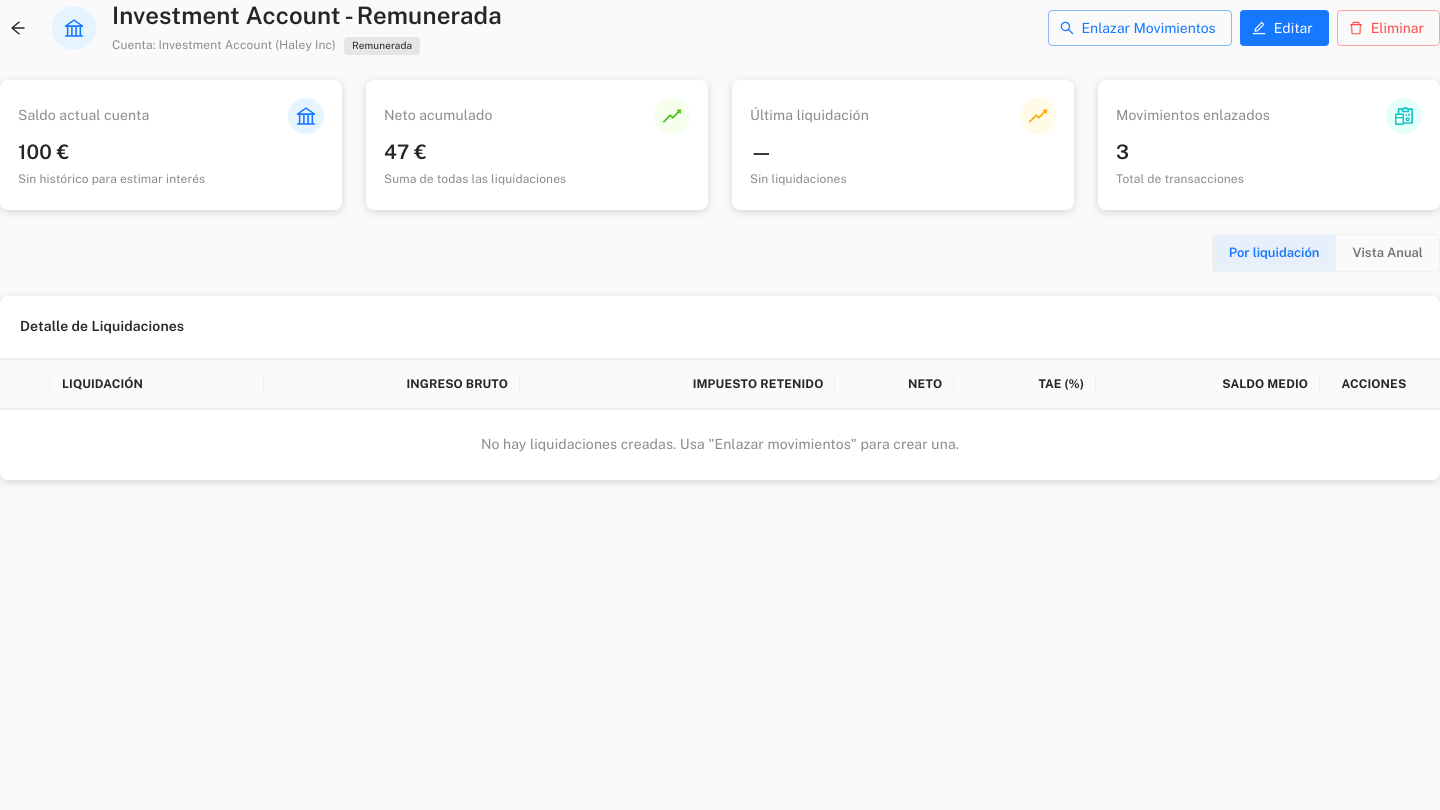
it: YieldDetail › edit yield › keeps the form open and shows the error on failure
This screenshot has width=1440, height=810.
Click the button "Editar" at {"x": 1284, "y": 28}, box [1240,10,1329,46]
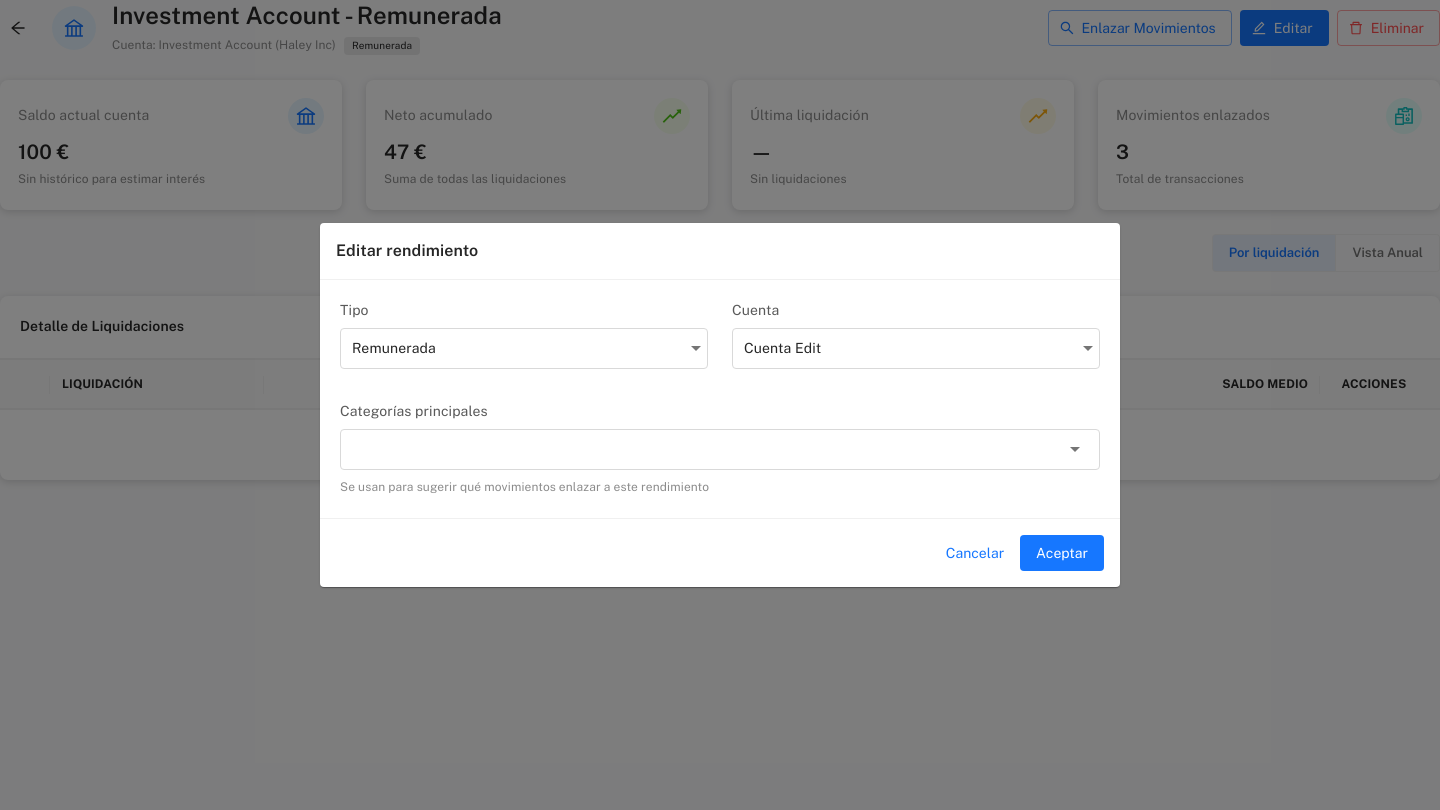
Now the text "Editar rendimiento" is shown, box [336,240,478,260]
Click the button "Aceptar" at {"x": 1062, "y": 553}, box [1020,535,1104,572]
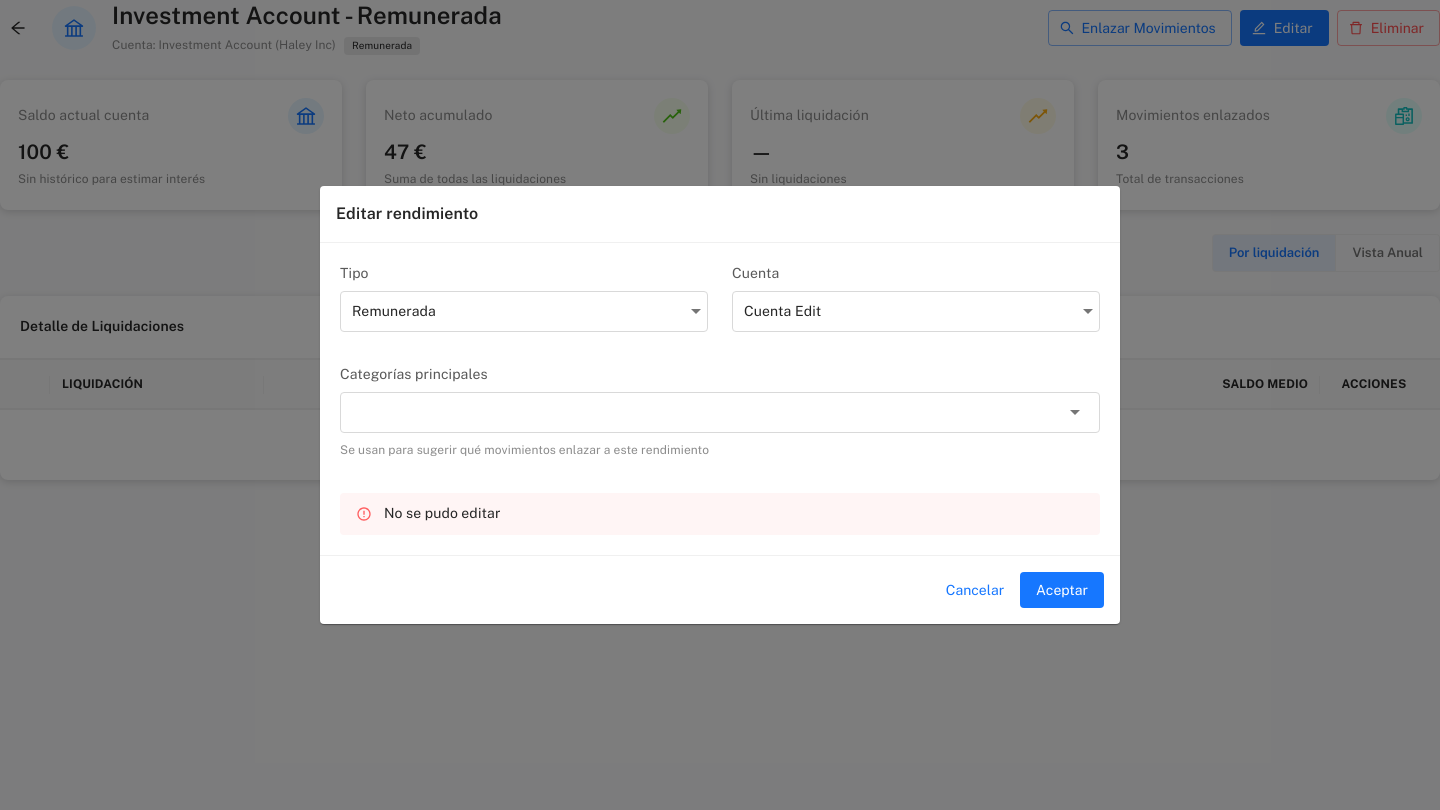
Now the text "Editar rendimiento" is shown, box [336,204,478,222]
Now the text "No se pudo editar" is shown, box [384,505,500,521]
